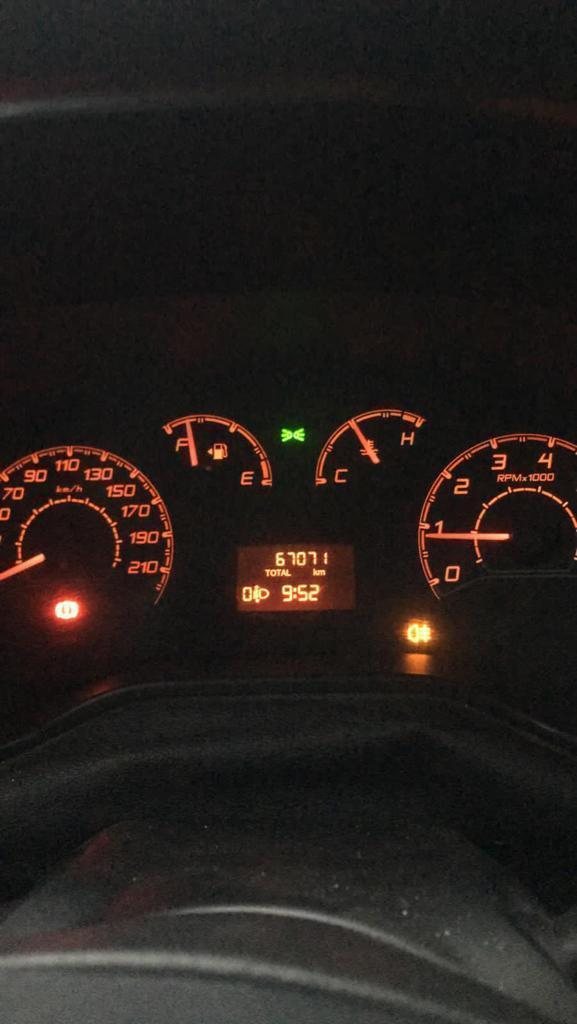0: (241, 585, 252, 602), (296, 551, 306, 565)
1: (323, 550, 328, 565)
2: (309, 583, 320, 601)
5: (297, 583, 308, 601)
6: (275, 551, 284, 566)
7: (287, 550, 295, 565), (308, 550, 316, 565)
9: (281, 583, 292, 602)
X: (292, 586, 296, 600), (312, 567, 318, 576), (318, 569, 325, 576), (285, 568, 291, 576), (264, 568, 269, 576), (276, 568, 281, 576), (270, 569, 275, 576), (281, 568, 285, 576)
odometer: (233, 542, 358, 612)
